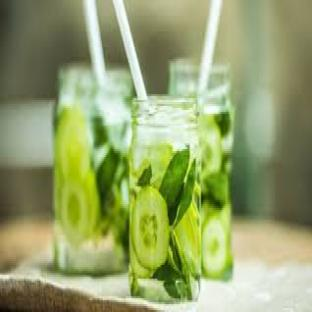Cucumber: (131, 187, 168, 270), (59, 171, 100, 245), (55, 106, 90, 178), (174, 203, 201, 276), (203, 214, 227, 278), (200, 116, 221, 176), (130, 242, 152, 278)
